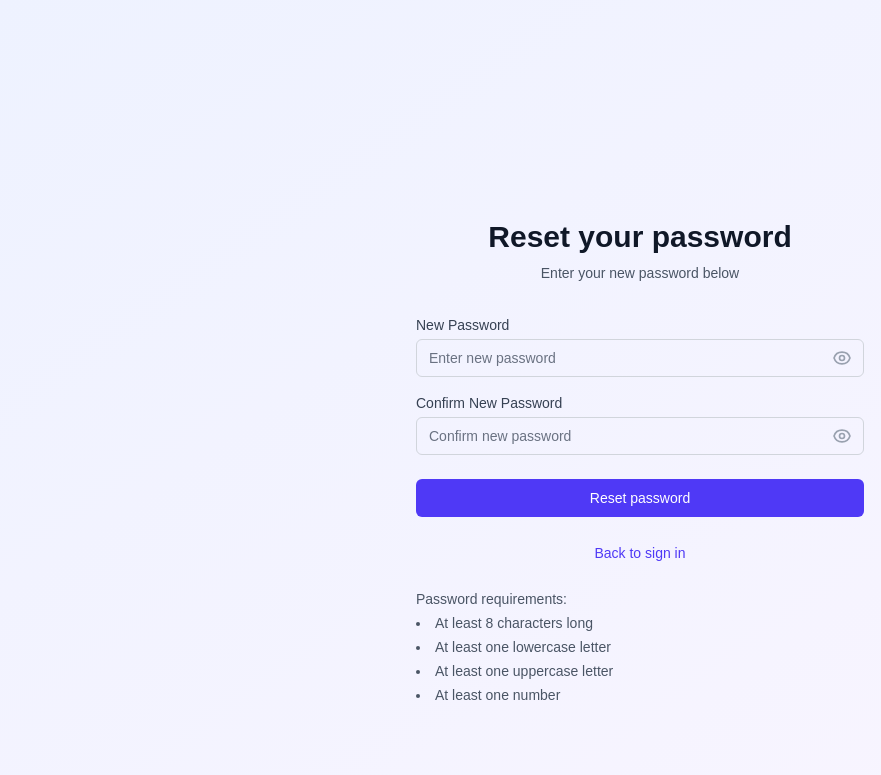
Scenario: ResetPasswordForm › handles form submission with API error
In the password field labelled "New Password": (640, 358) top-left (416, 339), bottom-right (864, 377), type "StrongPassword123!"
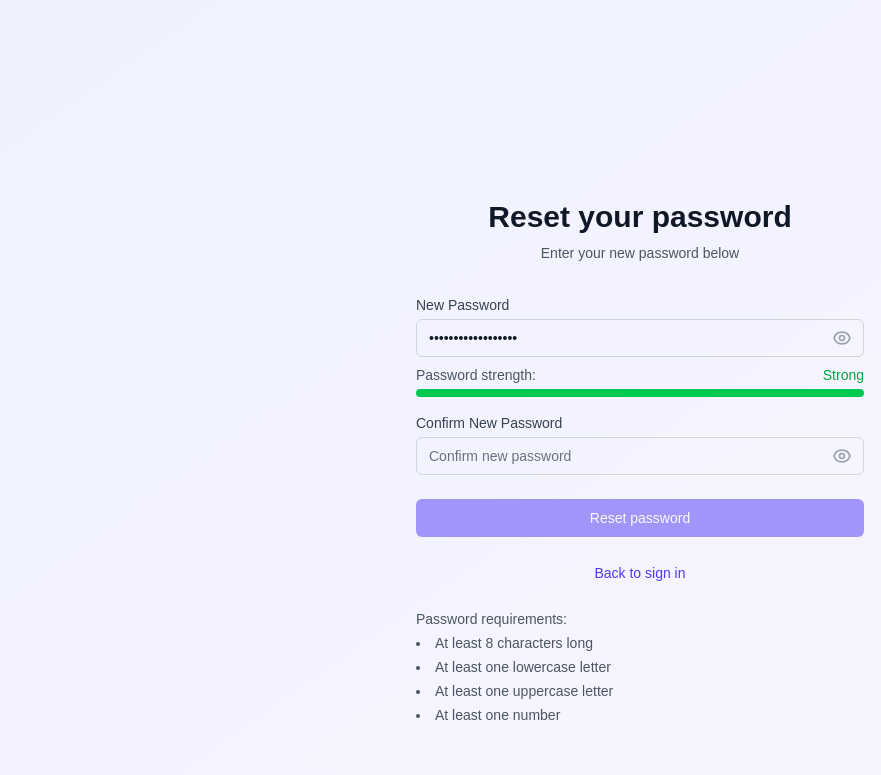
In the password field labelled "Confirm New Password": (640, 456) top-left (416, 437), bottom-right (864, 475), type "StrongPassword123!"
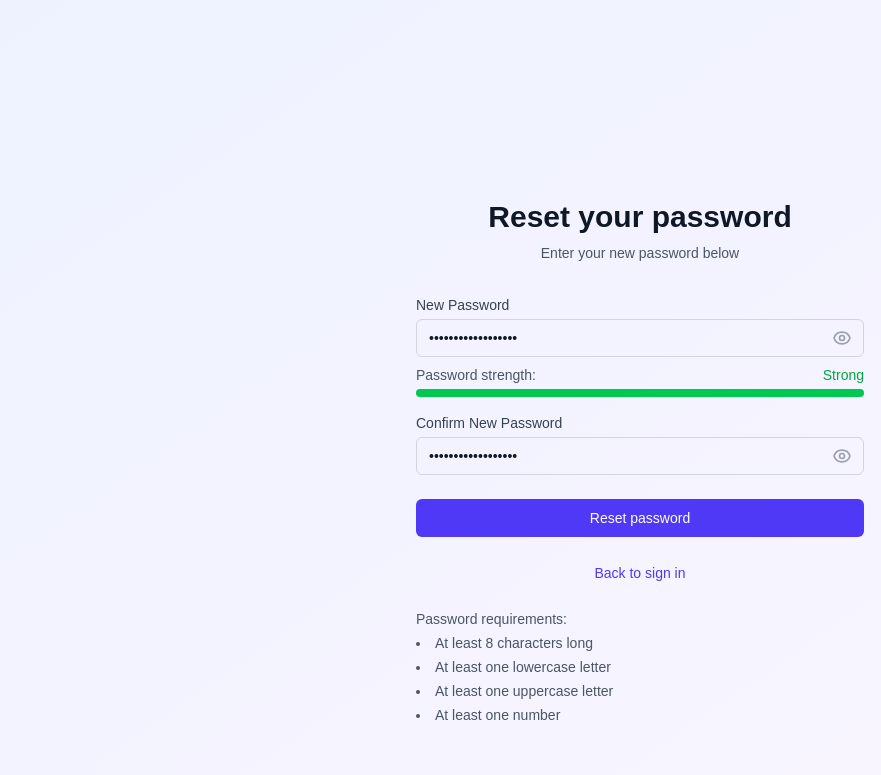
Click the button "Reset password": (640, 518) top-left (416, 499), bottom-right (864, 537)
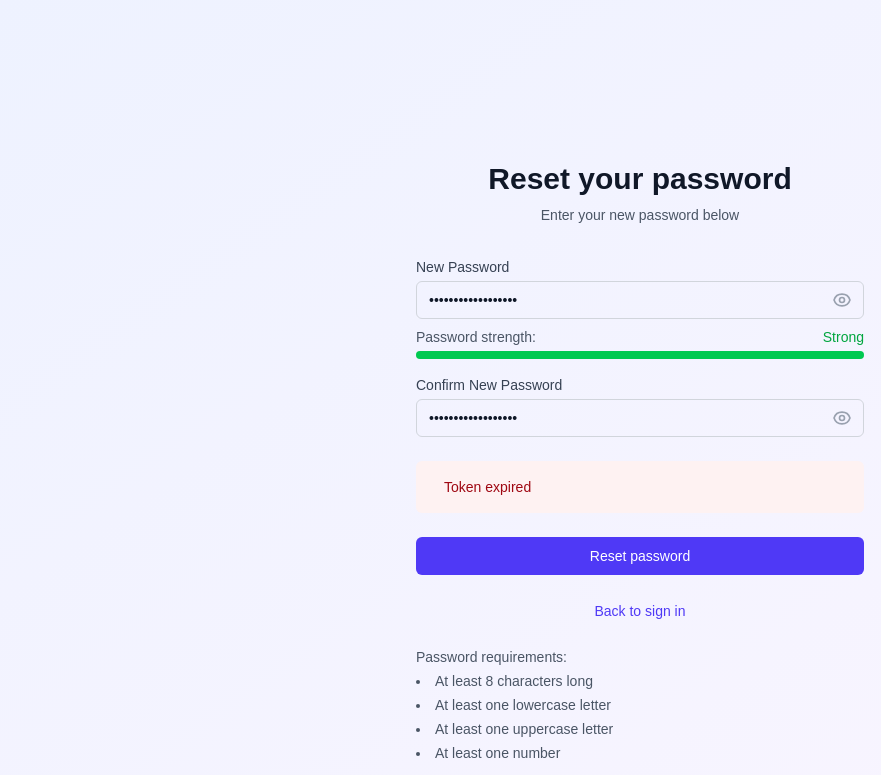
Now the text "Token expired" is shown, box top-left (444, 477), bottom-right (531, 497)
